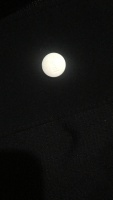Parol: (40, 50, 68, 79)
